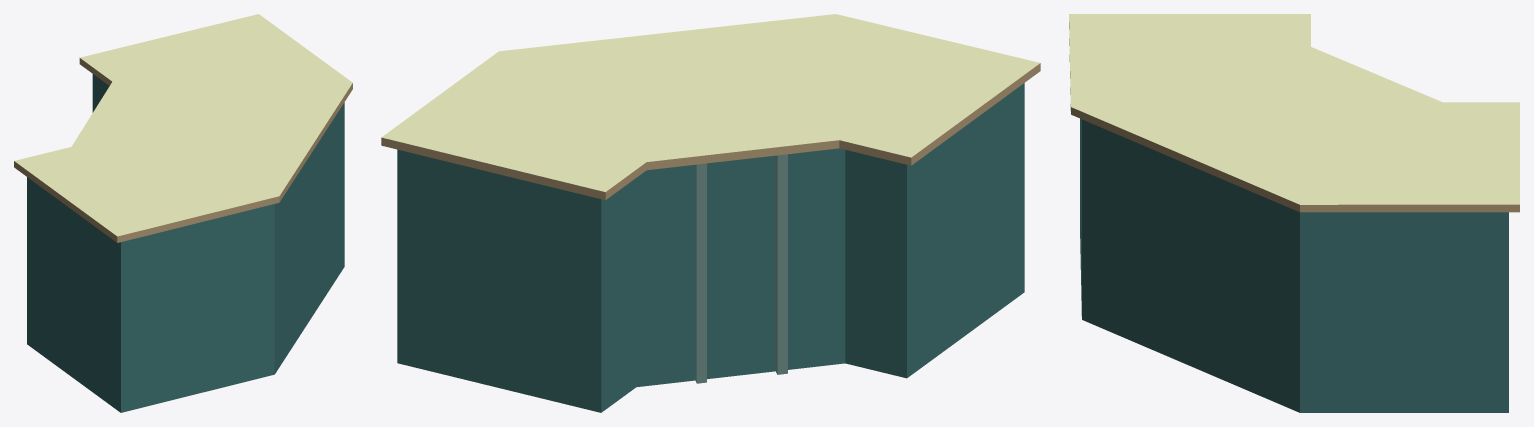
Rendered from ModuloEsquina02.fbx.
The picture shows the model from 3 angles, left to right: view 1: azimuth 30°, elevation 25°; view 2: azimuth 150°, elevation 25°; view 3: azimuth 270°, elevation 25°; orthographic projection. The views are drawn at different scales.
Parts seen in each view (by area): view 1: Cube.218; view 2: Cube.218; view 3: Cube.218.
Boxes of the visible parts, x1,y1,x2,y2 form: Cube.218: (14,14,352,412); Cube.218: (381,14,1040,412); Cube.218: (1069,14,1519,412).
Bounding box in the file's own units: 410 × 213 × 410.
